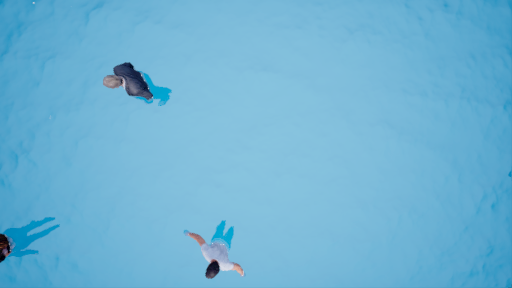person: (177, 219, 259, 287), (107, 49, 171, 103), (1, 213, 57, 261)
